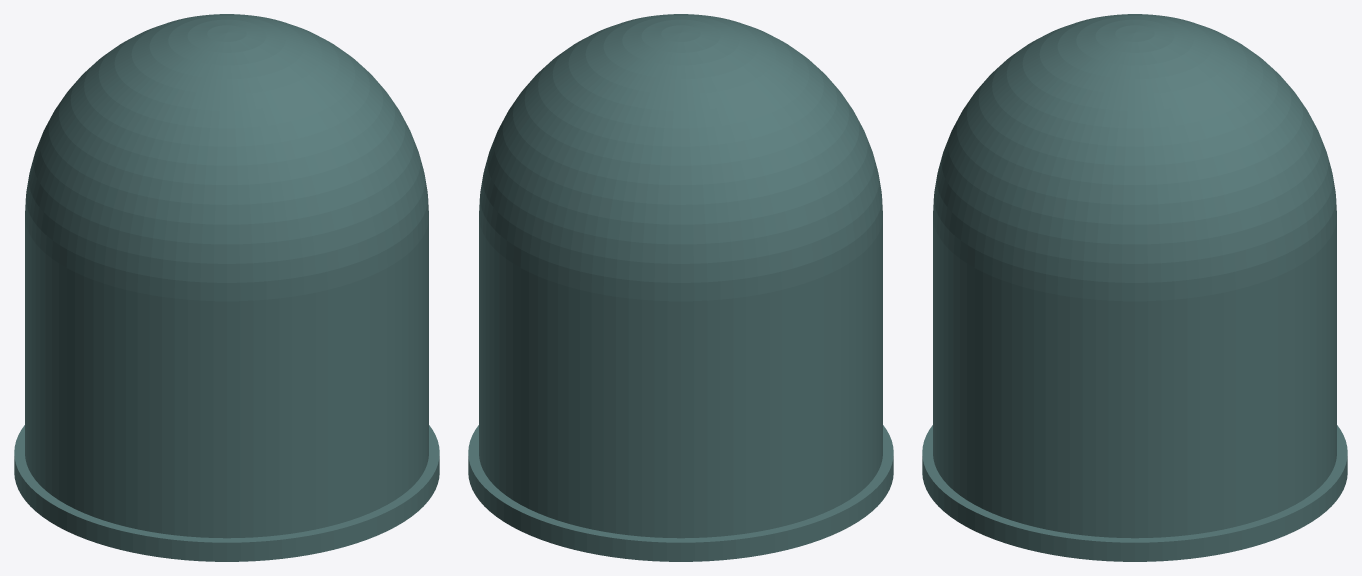
The model's file is ObservationPod_Collision.fbx.
3 renders of one model, left to right at view 1: azimuth 30°, elevation 25°; view 2: azimuth 150°, elevation 25°; view 3: azimuth 270°, elevation 25°, orthographic.
Parts seen in each view (by area): view 1: ObservationPod_CollisionSegment_15, ObservationPod_CollisionSegment_16, ObservationPod_CollisionSegment_14, ObservationPod_CollisionSegment_17, ObservationPod_CollisionSegment_13, ObservationPod_CollisionSegment_18, ObservationPod_CollisionSegment_12, ObservationPod_CollisionSegment_19, ObservationPod_CollisionSegment_11, ObservationPod_CollisionSegment_20, ObservationPod_CollisionSegment_10, ObservationPod_CollisionSegment_21 (+4 smaller); view 2: ObservationPod_CollisionSegment_07, ObservationPod_CollisionSegment_08, ObservationPod_CollisionSegment_06, ObservationPod_CollisionSegment_09, ObservationPod_CollisionSegment_05, ObservationPod_CollisionSegment_10, ObservationPod_CollisionSegment_04, ObservationPod_CollisionSegment_11, ObservationPod_CollisionSegment_03, ObservationPod_CollisionSegment_12, ObservationPod_CollisionSegment_02, ObservationPod_CollisionSegment_13 (+4 smaller); view 3: ObservationPod_CollisionSegment_00, ObservationPod_CollisionSegment_23, ObservationPod_CollisionSegment_01, ObservationPod_CollisionSegment_22, ObservationPod_CollisionSegment_02, ObservationPod_CollisionSegment_21, ObservationPod_CollisionSegment_03, ObservationPod_CollisionSegment_20, ObservationPod_CollisionSegment_04, ObservationPod_CollisionSegment_19, ObservationPod_CollisionSegment_05, ObservationPod_CollisionSegment_18 (+4 smaller).
Boxes of the visible parts, x1,y1,x2,y2 form: ObservationPod_CollisionSegment_15: (172,33,226,561); ObservationPod_CollisionSegment_16: (227,33,281,561); ObservationPod_CollisionSegment_14: (120,33,226,558); ObservationPod_CollisionSegment_17: (227,33,333,558); ObservationPod_CollisionSegment_13: (76,33,225,549); ObservationPod_CollisionSegment_18: (228,33,377,549); ObservationPod_CollisionSegment_12: (42,33,225,535); ObservationPod_CollisionSegment_19: (228,33,411,535); ObservationPod_CollisionSegment_11: (21,33,225,516); ObservationPod_CollisionSegment_20: (228,33,432,516); ObservationPod_CollisionSegment_10: (14,32,225,494); ObservationPod_CollisionSegment_21: (228,32,439,494); ObservationPod_CollisionSegment_07: (626,33,680,561); ObservationPod_CollisionSegment_08: (681,33,735,561); ObservationPod_CollisionSegment_06: (574,33,680,558); ObservationPod_CollisionSegment_09: (681,33,787,558); ObservationPod_CollisionSegment_05: (530,33,679,549); ObservationPod_CollisionSegment_10: (682,33,831,549); ObservationPod_CollisionSegment_04: (496,33,679,535); ObservationPod_CollisionSegment_11: (682,33,865,535); ObservationPod_CollisionSegment_03: (475,33,679,516); ObservationPod_CollisionSegment_12: (682,33,886,516); ObservationPod_CollisionSegment_02: (468,32,679,494); ObservationPod_CollisionSegment_13: (682,32,893,494); ObservationPod_CollisionSegment_00: (1135,33,1189,561); ObservationPod_CollisionSegment_23: (1080,33,1134,561); ObservationPod_CollisionSegment_01: (1135,33,1241,558); ObservationPod_CollisionSegment_22: (1028,33,1134,558); ObservationPod_CollisionSegment_02: (1136,33,1285,549); ObservationPod_CollisionSegment_21: (984,33,1133,549); ObservationPod_CollisionSegment_03: (1136,33,1319,535); ObservationPod_CollisionSegment_20: (950,33,1133,535); ObservationPod_CollisionSegment_04: (1136,33,1340,516); ObservationPod_CollisionSegment_19: (929,33,1133,516); ObservationPod_CollisionSegment_05: (1136,32,1347,494); ObservationPod_CollisionSegment_18: (922,32,1133,494).
Bounding box in the file's own units: 280 × 319 × 280.
